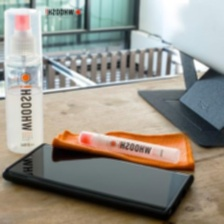cleaning_solution: (2, 4, 45, 156), (75, 127, 182, 166)
phone: (0, 137, 198, 224)
